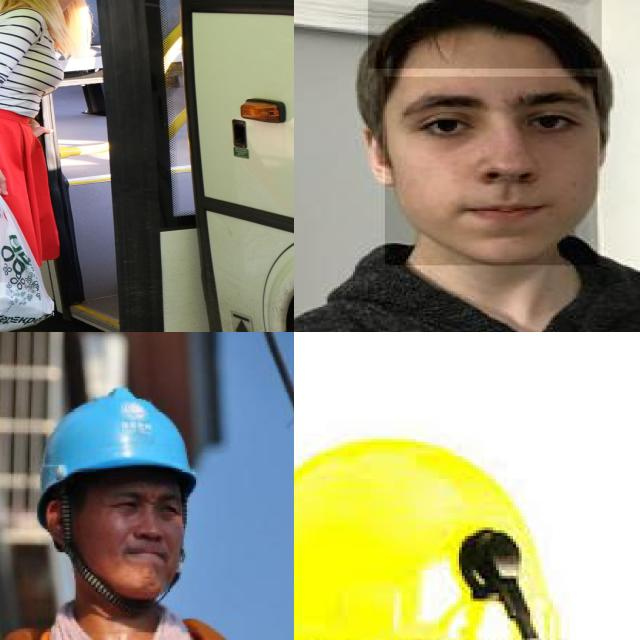Ear-protection: (446, 526, 580, 640)
No_Ear-Protection: (352, 115, 403, 193), (44, 500, 68, 545)
No_Glasses: (404, 72, 589, 161), (101, 489, 182, 521)
face_nomask: (385, 77, 597, 266), (74, 512, 183, 600)
head_helmet: (38, 387, 197, 524)
head_nohelmet: (368, 0, 602, 68)
person: (294, 0, 640, 332)
